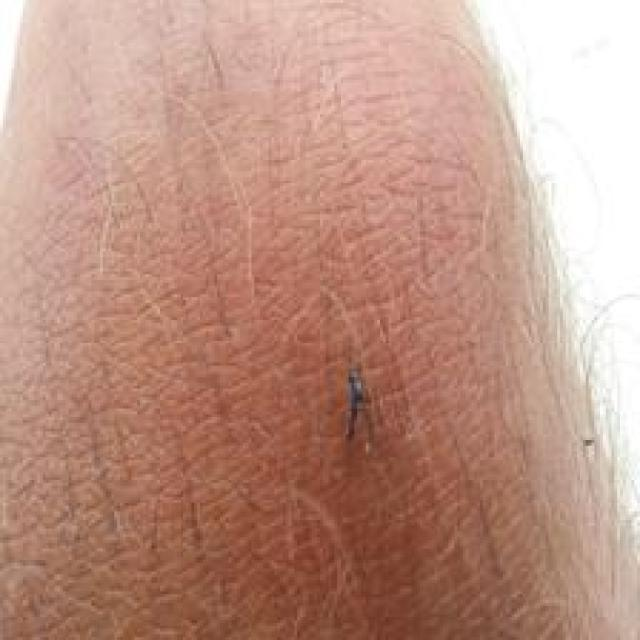Aedes albopictus: (341, 364, 373, 442)
